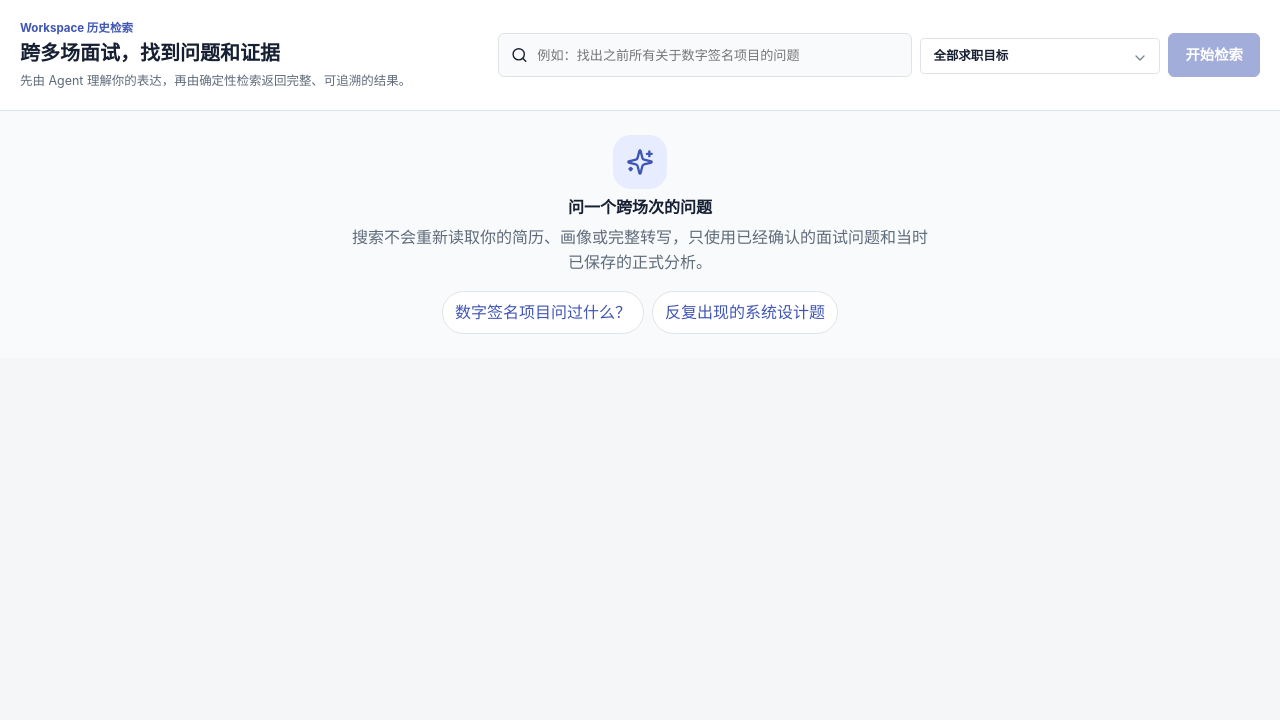
it: RetrospectiveHistorySearch › keeps summary progress visible after the start request returns
In the field named "搜索历史复盘": (717,55) [535,44,899,66], type "数字签名"
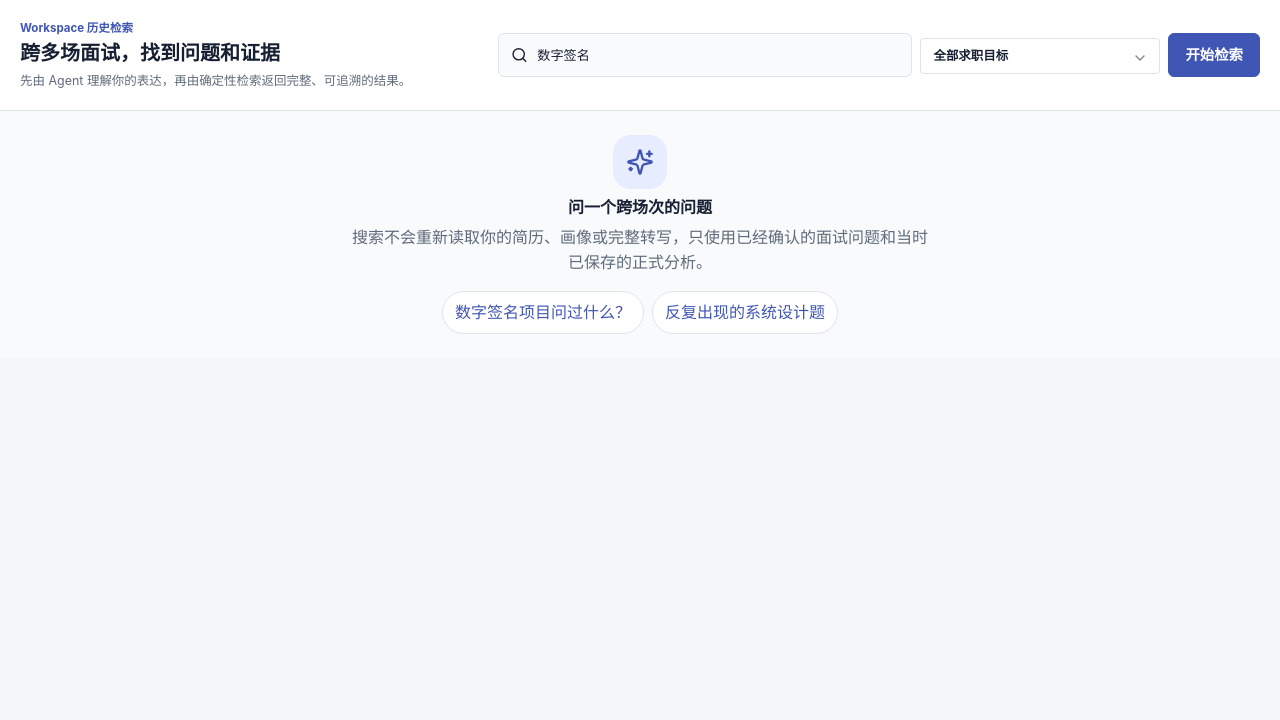
Click the button "开始检索": (1214,55) [1168,33,1260,77]
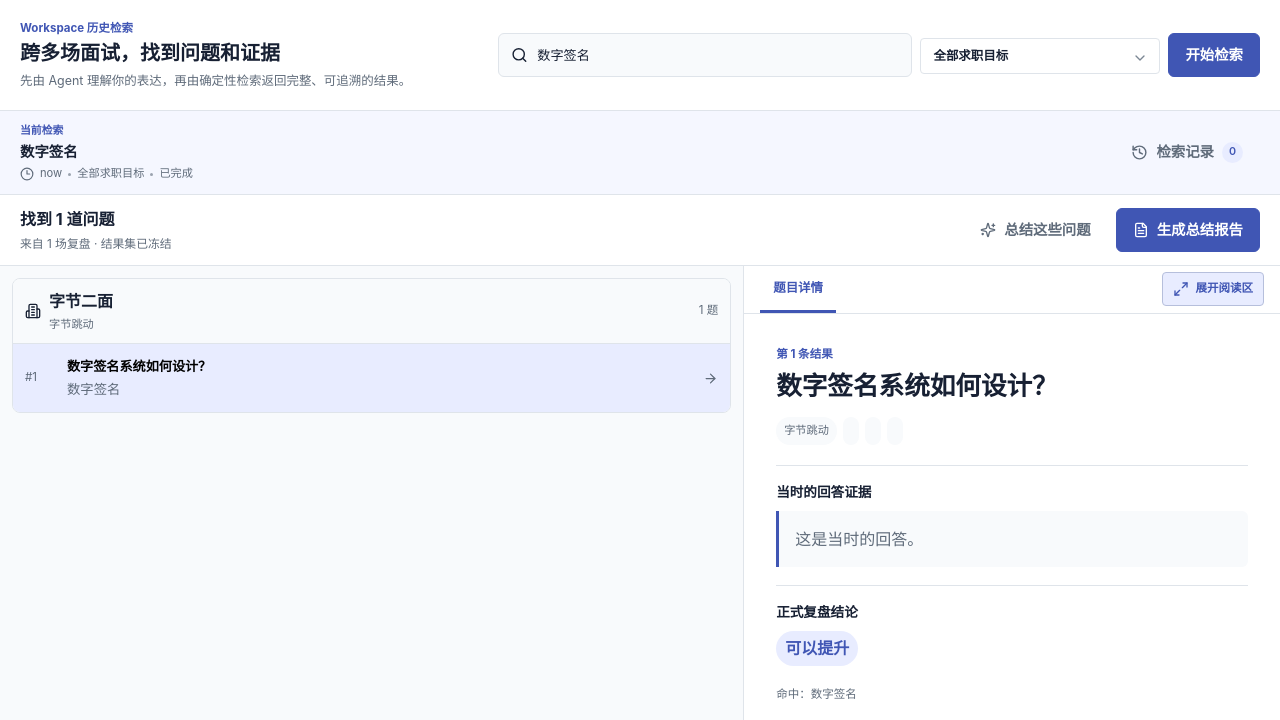
Expected: the text "数字签名系统如何设计？" is shown, [67,358,211,374]
Click the button "总结这些问题": (1036,230) [963,208,1108,252]
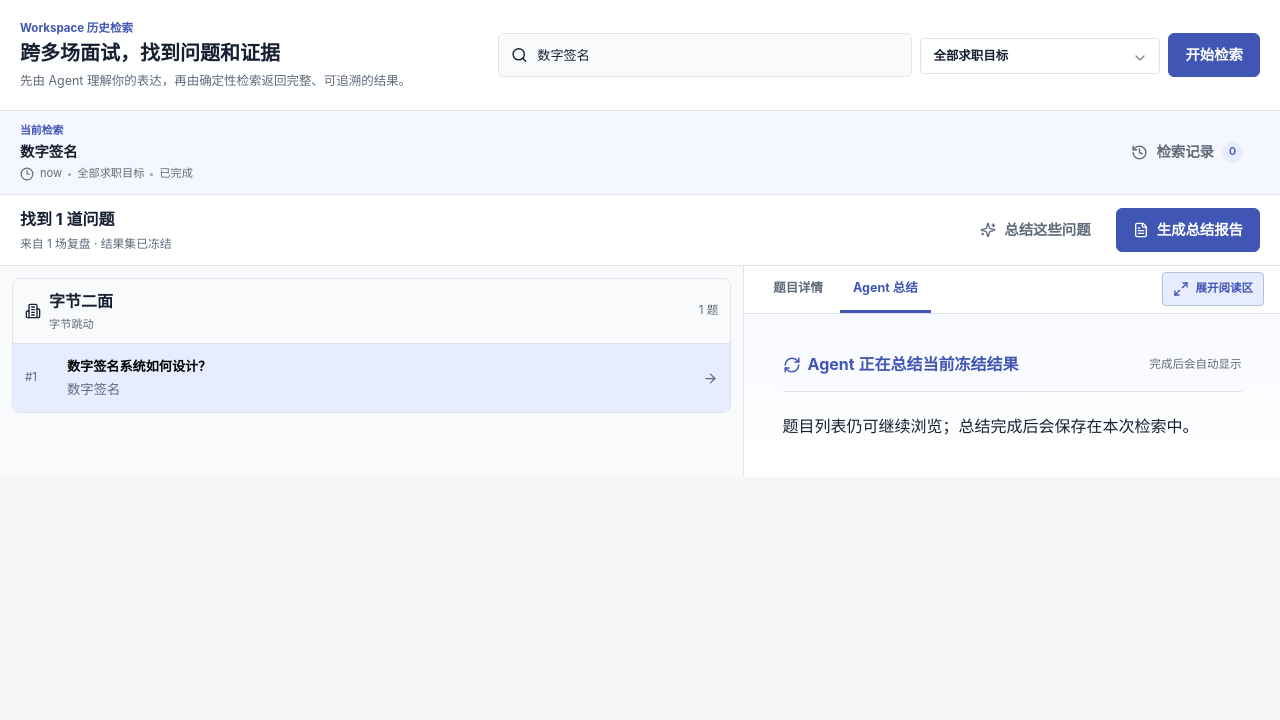
Expected: the text "数字签名系统如何设计？" is shown, [67,358,211,374]
Expected: the message shows "Agent 正在总结当前冻结结果", [808,354,1018,374]
